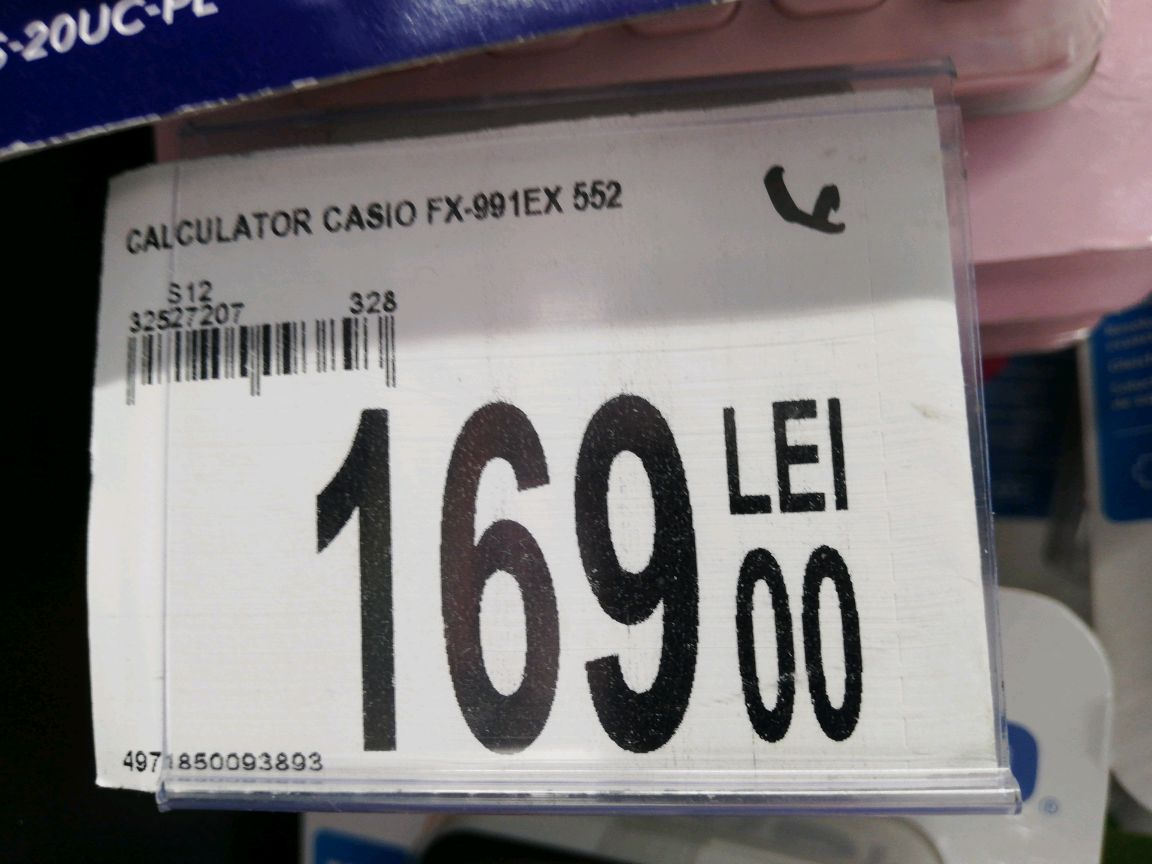price_bani: (717, 536, 870, 755)
price_lei: (311, 391, 705, 757)
price_tag: (80, 82, 1011, 810)
product_id: (110, 739, 330, 781)
product_name: (122, 172, 639, 265)
